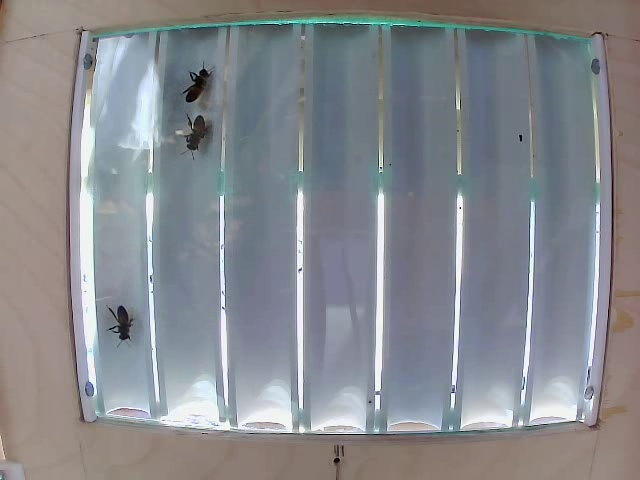bee: (102, 301, 153, 361), (182, 68, 222, 112), (182, 124, 222, 159)
